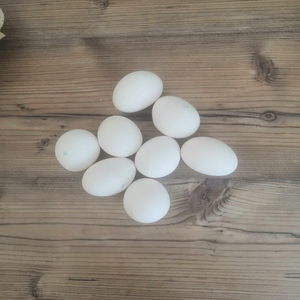white egg: (180, 135, 239, 176), (151, 94, 201, 139), (81, 157, 137, 197), (112, 70, 164, 113), (123, 177, 171, 223), (54, 127, 102, 172), (96, 115, 143, 159), (135, 134, 181, 178)
